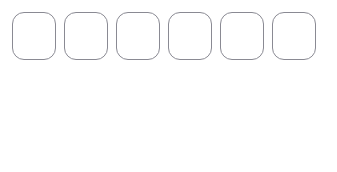
Test: OtpInput › 貼上整串驗證碼分配到各格並完成（含空白與連字號）
Click the field named "驗證碼第 3 碼，共 6 碼": (138, 36) [116, 12, 160, 60]
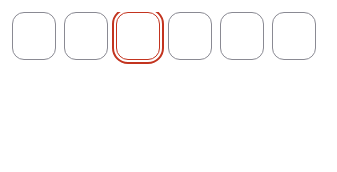
Type keys "123 456"
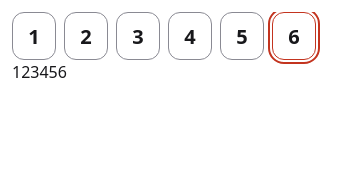
Check: the text with test id "value" reads "123456", box [12, 61, 67, 83]
